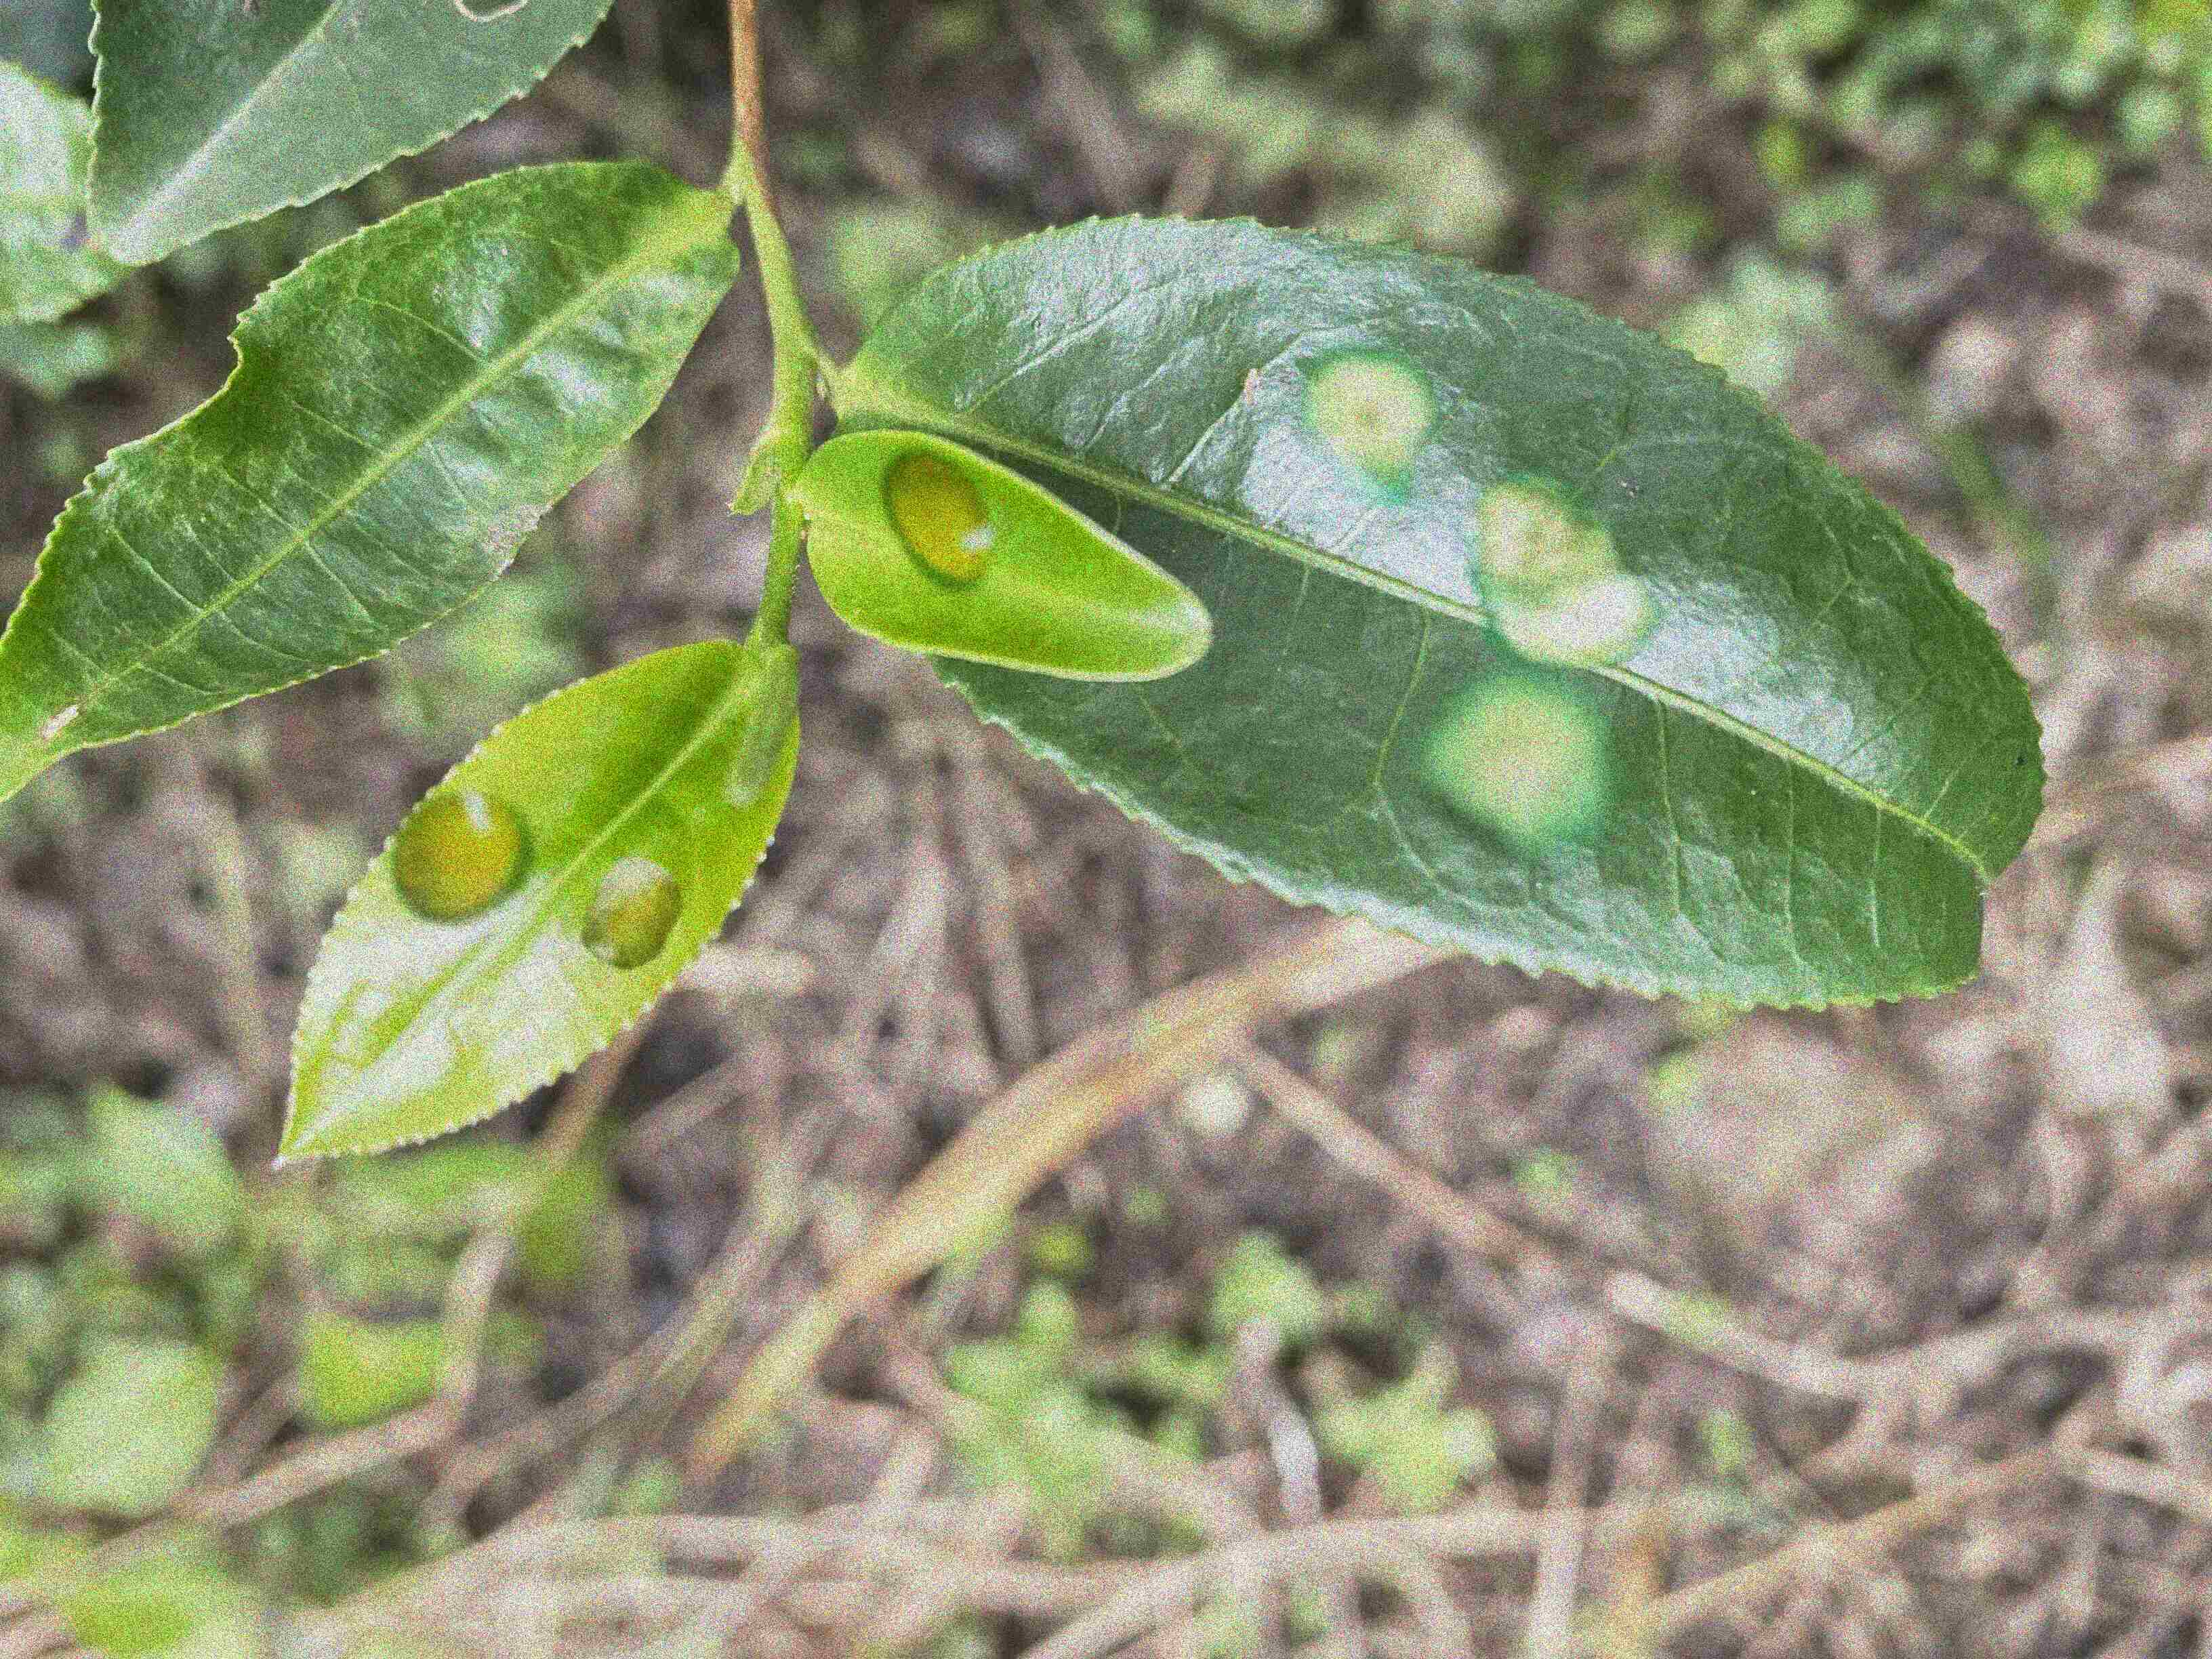chabing_high: (852, 209, 2050, 1009), (272, 641, 801, 1171)
chabing_low: (798, 432, 1212, 683)
tanju_low: (3, 159, 742, 803)
